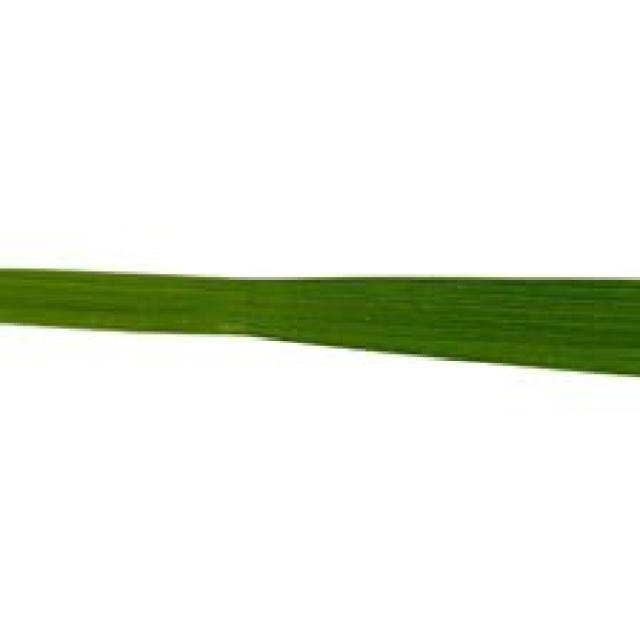Rice___Healthy_Rice_Plant: (0, 267, 637, 379)
